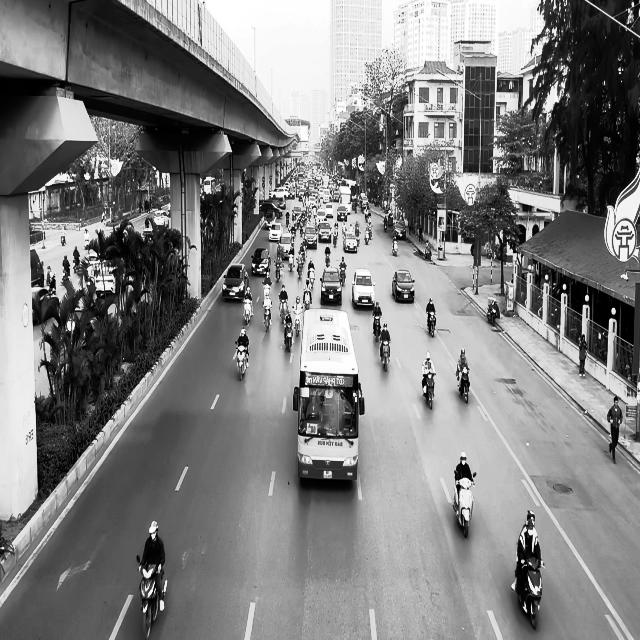bus: (293, 307, 365, 482)
car: (222, 264, 249, 301), (352, 268, 376, 308), (320, 267, 342, 305), (392, 269, 415, 302), (251, 248, 271, 276), (31, 248, 44, 287), (277, 232, 295, 258), (344, 232, 358, 252), (319, 221, 332, 242), (393, 220, 406, 239)
motorbike: (136, 554, 168, 638), (513, 556, 545, 630), (452, 470, 477, 538), (236, 342, 250, 381), (422, 371, 436, 409), (457, 366, 470, 403), (380, 338, 391, 371), (243, 296, 254, 324), (284, 319, 293, 352), (263, 301, 272, 332), (427, 310, 437, 337), (487, 298, 497, 325), (293, 308, 302, 336), (373, 315, 382, 341), (392, 235, 398, 256)
